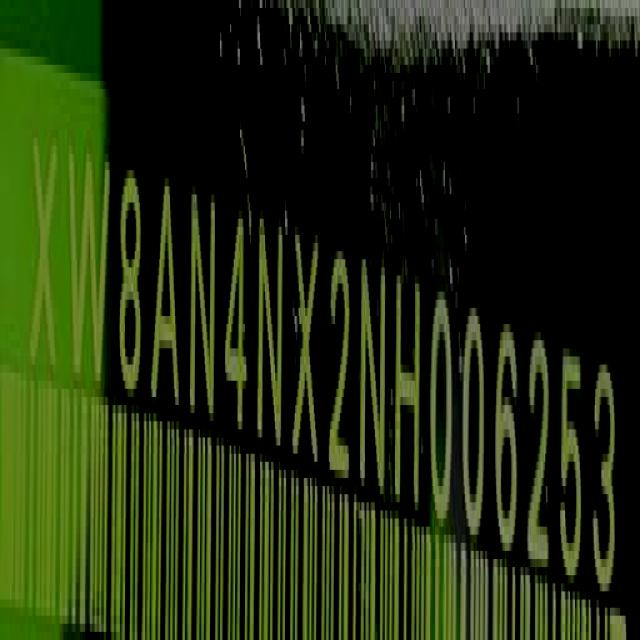0: (428, 278, 457, 532), (459, 296, 486, 546)
2: (328, 238, 353, 494), (527, 325, 552, 571)
3: (594, 354, 620, 604)
4: (223, 192, 250, 448)
5: (560, 336, 584, 593)
6: (494, 310, 522, 560)
8: (117, 164, 145, 404)
A: (149, 167, 181, 422)
H: (394, 256, 423, 516)
N: (358, 248, 388, 506), (256, 197, 286, 453), (191, 177, 219, 438)
W: (66, 133, 111, 400)
X: (291, 223, 320, 495), (30, 116, 59, 384)
